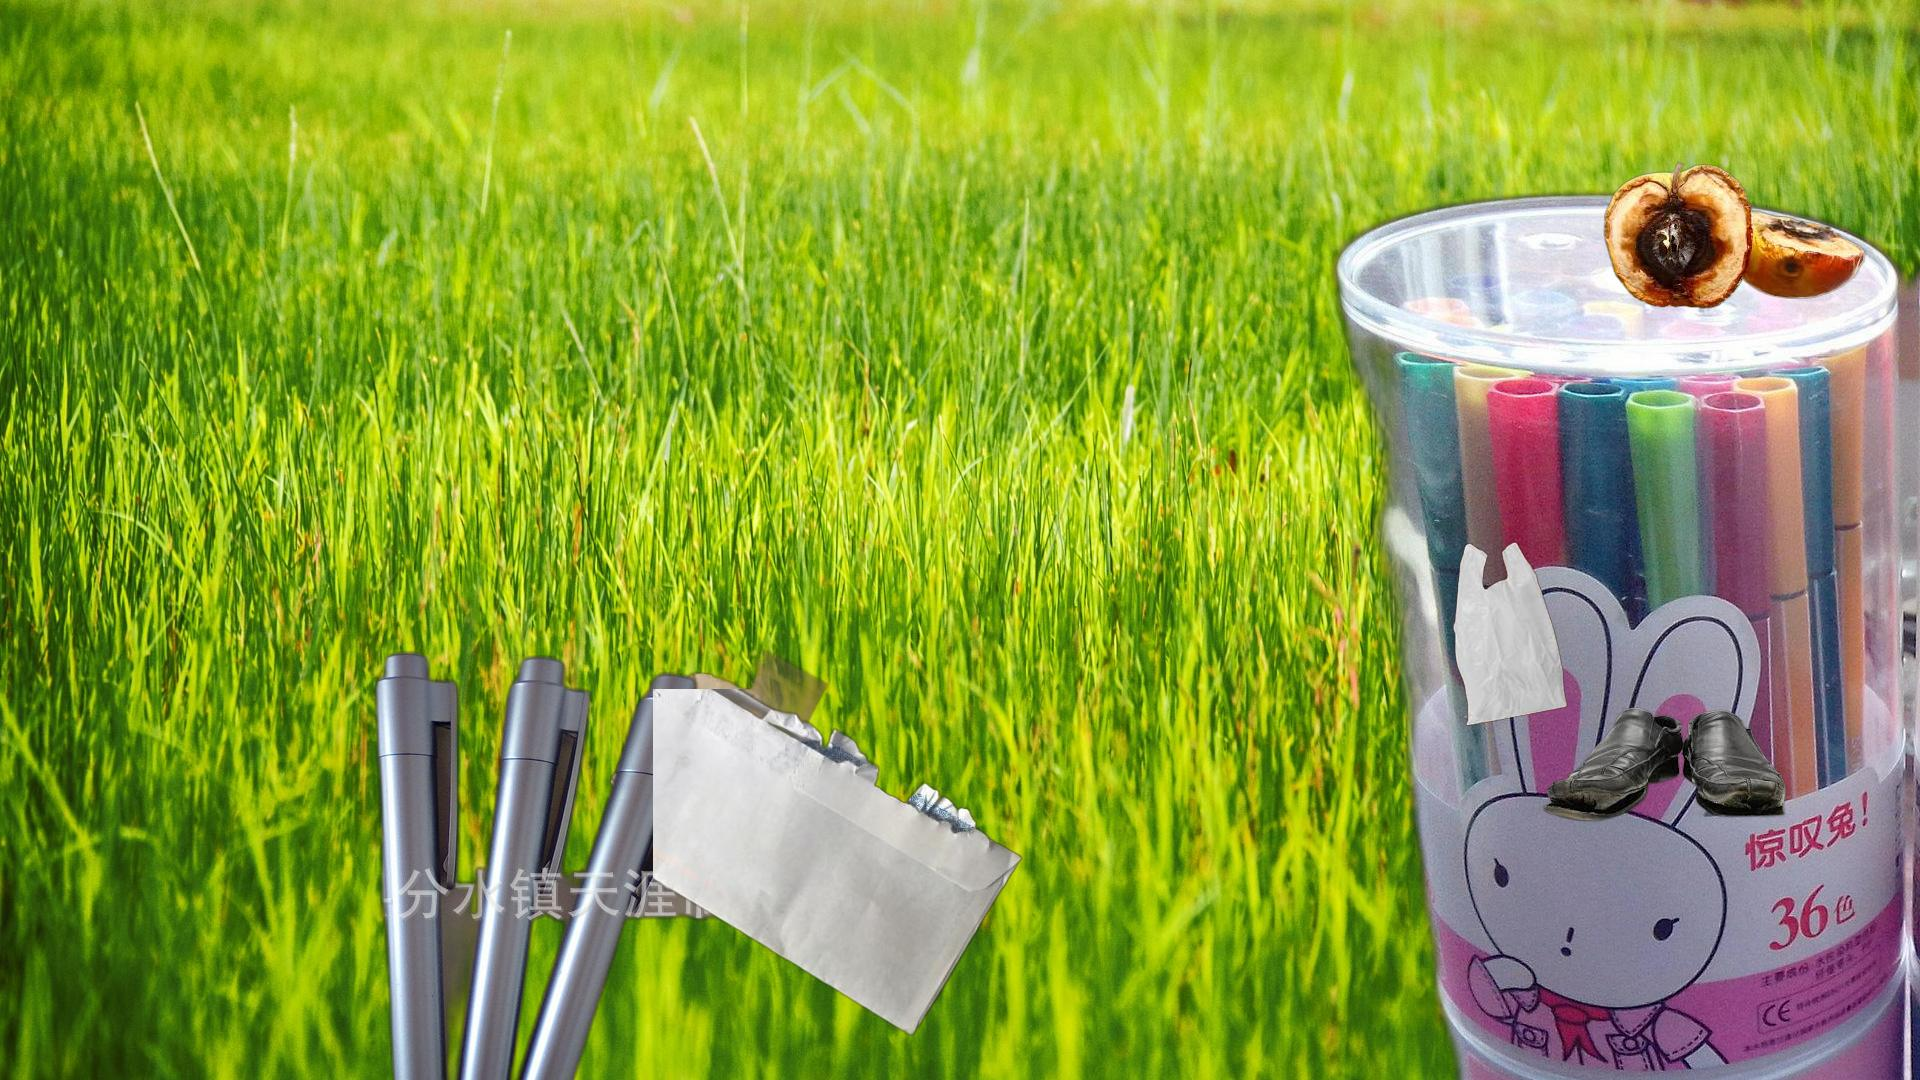biological: (1601, 156, 1871, 311)
paper: (653, 688, 1026, 1038)
paper-bag: (608, 642, 831, 894)
penholder: (1255, 182, 1920, 1080), (368, 646, 855, 1080)
plastic-bag: (1307, 541, 1571, 808)
shoes: (1540, 705, 1789, 824)
